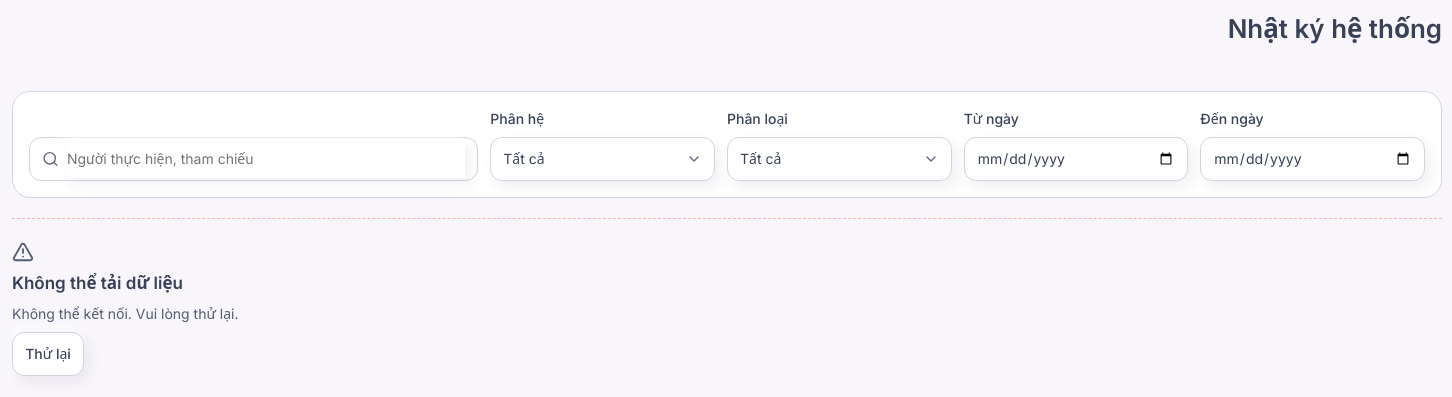
Test: audit log loading recovery › ends loading after a network failure and retries without a document reload
The image size is (1452, 397).
Expected: the message shows "Không thể kết nối. Vui lòng thử lại.", x1=12 y1=305 x2=238 y2=322
Click the button "Thử lại" at [48, 354], box x1=12 y1=332 x2=84 y2=376
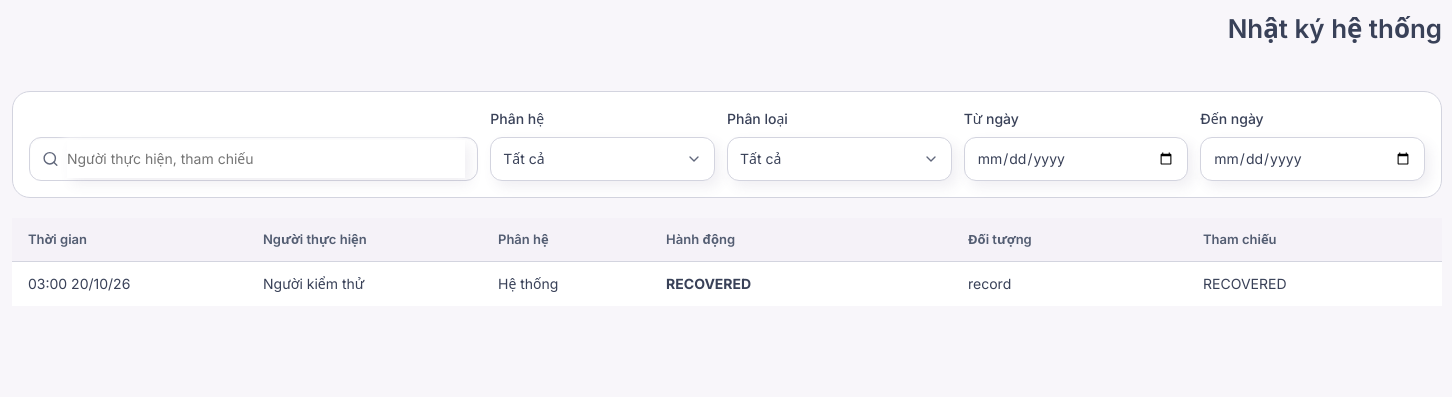
Now the 1st text "RECOVERED" is shown, box x1=666 y1=275 x2=751 y2=292
